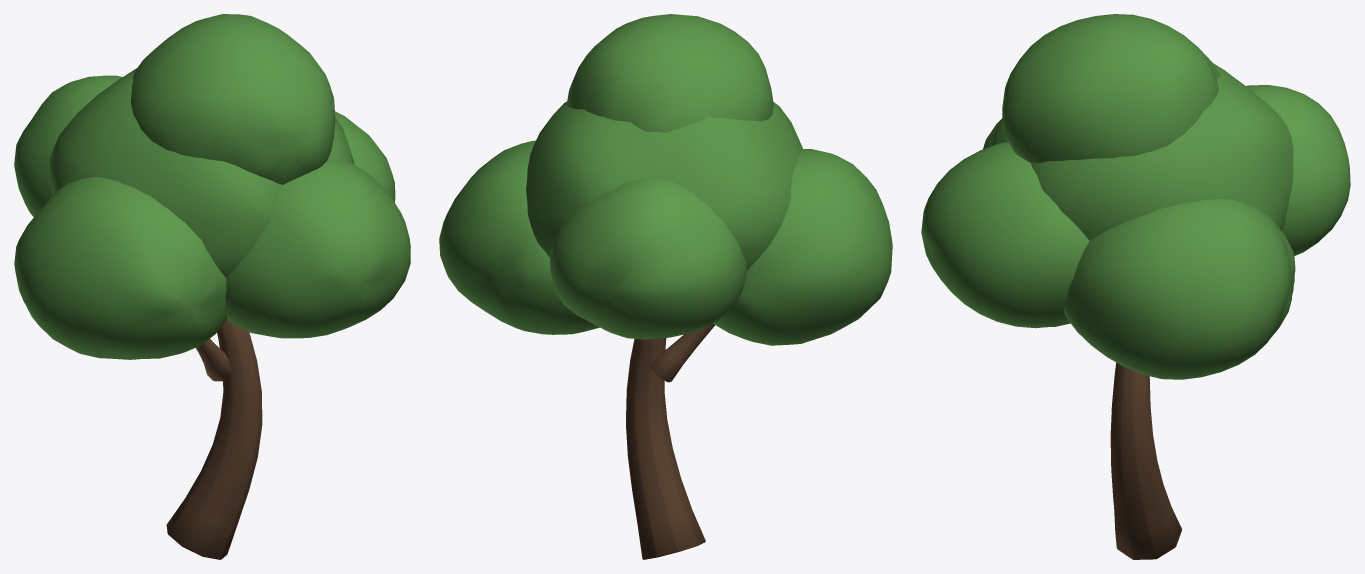
File: tree_a.glb
3 views of the same model, side by side, from view 1: azimuth 30°, elevation 25°; view 2: azimuth 150°, elevation 25°; view 3: azimuth 270°, elevation 25° (orthographic). The views are drawn at different scales.
Visible parts, largest first — view 1: Tree_A_Crown, Tree_A_Trunk; view 2: Tree_A_Crown, Tree_A_Trunk; view 3: Tree_A_Crown, Tree_A_Trunk.
Part boxes in pixels (<box>): Tree_A_Crown: <box>14,14,410,359</box>; Tree_A_Trunk: <box>166,320,262,559</box>; Tree_A_Crown: <box>439,14,892,345</box>; Tree_A_Trunk: <box>626,324,714,559</box>; Tree_A_Crown: <box>921,14,1350,379</box>; Tree_A_Trunk: <box>1110,362,1181,559</box>.
Bounding box in the file's own units: 4.01 × 5.25 × 3.81.
